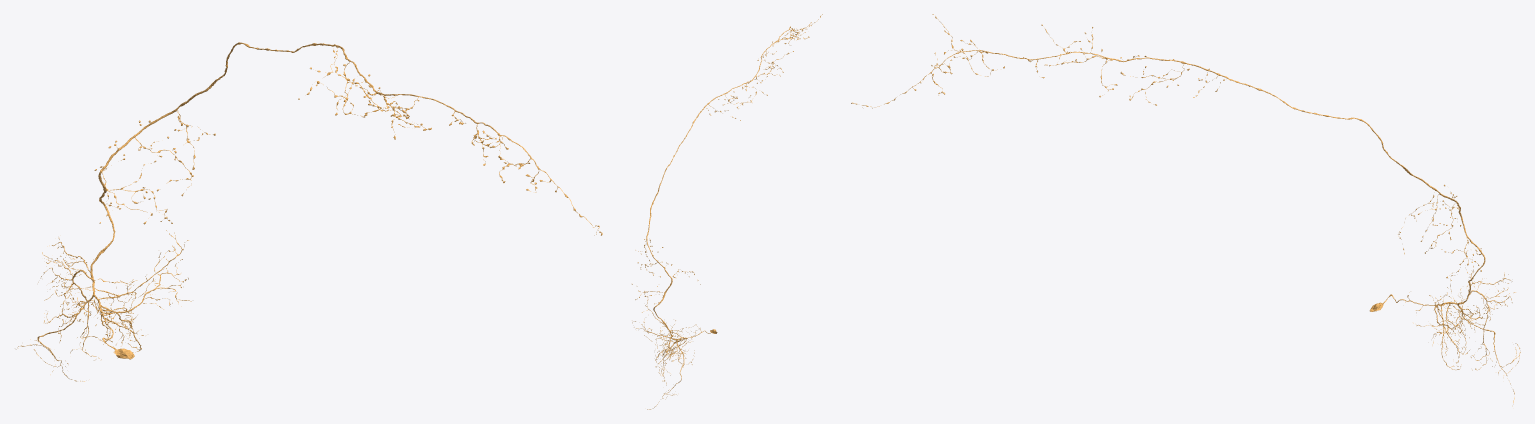
The model's file is VFB_jrmc30ne.glb.
The picture shows the model from 3 angles, left to right: view 1: azimuth 30°, elevation 25°; view 2: azimuth 150°, elevation 25°; view 3: azimuth 270°, elevation 25°; orthographic projection. The views are drawn at different scales.
Parts seen in each view (by area): view 1: VFB_jrmc30ne; view 2: VFB_jrmc30ne; view 3: VFB_jrmc30ne.
Boxes of the visible parts, left/top/right/bottom form: VFB_jrmc30ne: left=16, top=42, right=602, bottom=381; VFB_jrmc30ne: left=632, top=14, right=822, bottom=409; VFB_jrmc30ne: left=851, top=14, right=1520, bottom=406.
Bounding box in the file's own units: 0.1183 × 0.3358 × 0.5085.
